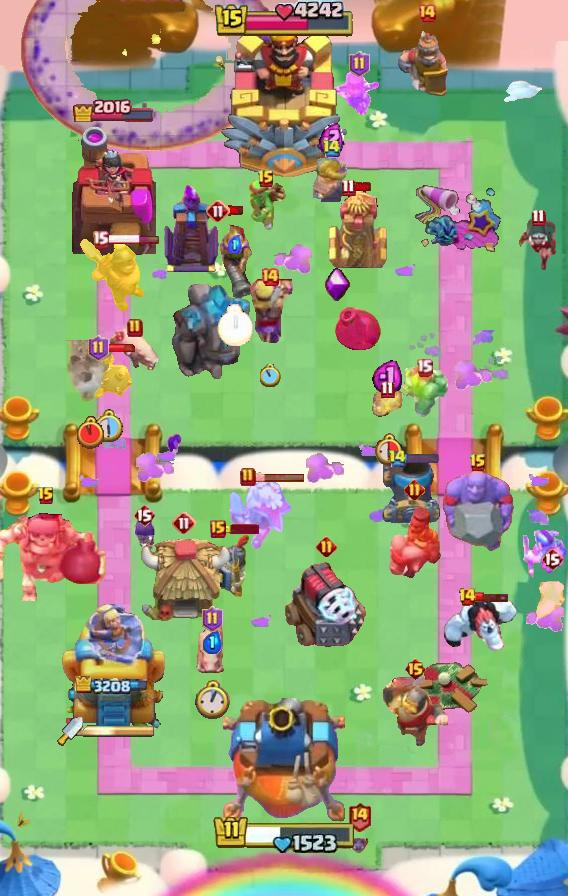archer-evolution: (334, 68, 384, 118)
bandit: (516, 218, 560, 274)
bar: (106, 234, 160, 245), (254, 472, 306, 483), (474, 591, 510, 603), (404, 453, 440, 464), (223, 524, 259, 534), (106, 343, 138, 353), (354, 181, 373, 193), (228, 205, 245, 216)
bar-level: (347, 801, 372, 832), (172, 511, 196, 535), (206, 199, 230, 223), (404, 657, 427, 681), (202, 606, 223, 632), (88, 335, 109, 361), (349, 51, 370, 77), (541, 547, 563, 571), (133, 503, 155, 527), (316, 536, 337, 557), (404, 479, 425, 500), (260, 267, 280, 287), (417, 3, 437, 23), (458, 587, 477, 607), (388, 449, 407, 468), (322, 139, 341, 158), (37, 486, 55, 506), (469, 453, 487, 473), (257, 169, 275, 189), (416, 358, 433, 377), (92, 230, 109, 249), (240, 467, 256, 487), (127, 318, 143, 338), (210, 520, 226, 538), (380, 380, 395, 399), (531, 208, 546, 227), (341, 178, 356, 197)
barbarian-evolution: (245, 279, 295, 345)
bat: (347, 829, 371, 855)
bat-evolution: (532, 576, 568, 622)
bomb: (332, 302, 384, 356)
bomber-evolution: (84, 345, 134, 399)
clock: (217, 304, 253, 346), (195, 680, 230, 720), (372, 432, 403, 466), (94, 409, 125, 443), (77, 416, 104, 449), (260, 364, 281, 387)
dagger-duchess-tower: (59, 595, 169, 731)
dagger-duchess-tower-bar: (83, 724, 155, 738)
dirt: (63, 340, 117, 405)
elite-barbarian: (313, 156, 349, 203)
elixir: (372, 358, 402, 393), (319, 121, 344, 157), (202, 631, 222, 654), (228, 235, 242, 254)
evolution-symbol: (325, 267, 351, 301)
golemite: (398, 366, 450, 418)
guard: (211, 533, 251, 597)
hog: (107, 326, 163, 376), (195, 624, 229, 680)
king-tower: (219, 23, 349, 181), (223, 698, 345, 826)
king-tower-bar: (212, 811, 356, 853), (213, 0, 355, 40)
knight: (382, 676, 448, 748)
lava-pup: (369, 388, 405, 420)
miner: (79, 236, 147, 314)
mortar: (382, 460, 442, 524)
musketeer: (214, 214, 256, 302)
queen-tower: (72, 122, 156, 256)
ram-rider: (384, 505, 444, 579)
royal-ghost: (225, 476, 293, 550)
royal-recruit: (397, 23, 457, 97)
skeleton-evolution: (131, 518, 157, 554)
spear-goblin: (520, 529, 568, 581), (246, 178, 286, 232)
tesla: (327, 189, 389, 273)
tower-bar: (72, 96, 156, 122), (75, 676, 153, 697)
